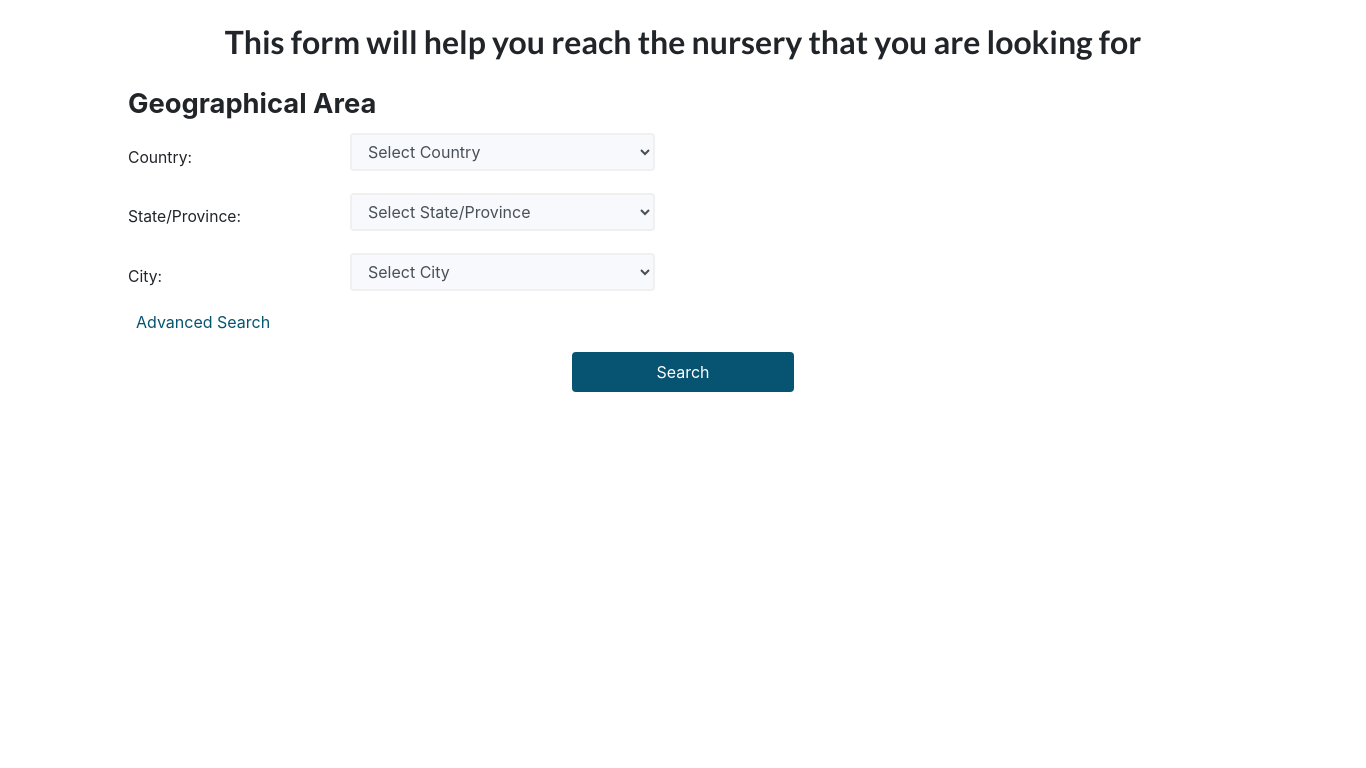
it: Checking to see if the advanced search hides after clicking it again or not
Step 1. Click the button with id "advancedSearchButton" → point(203, 322), box [128,307,278,337]
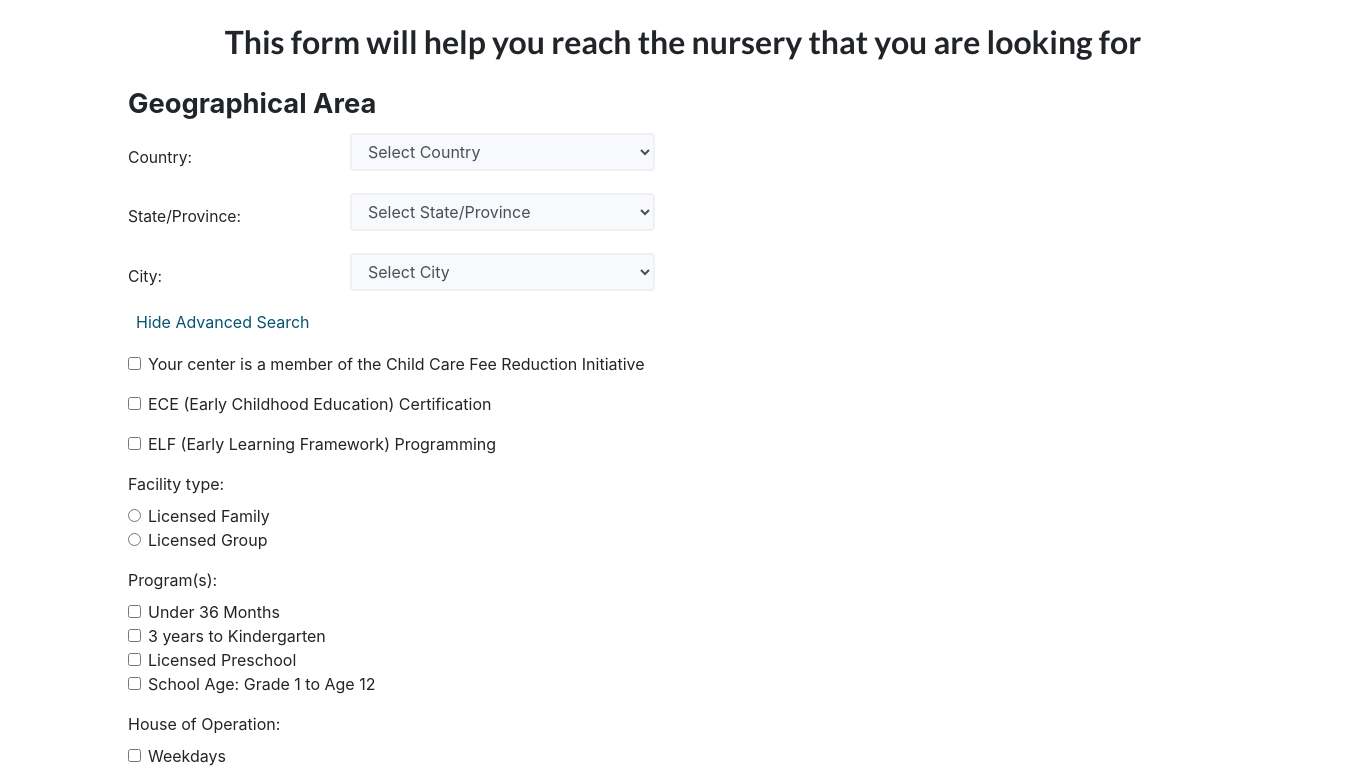
Step 2. Click the button with id "advancedSearchButton" → point(223, 322), box [128,307,318,337]
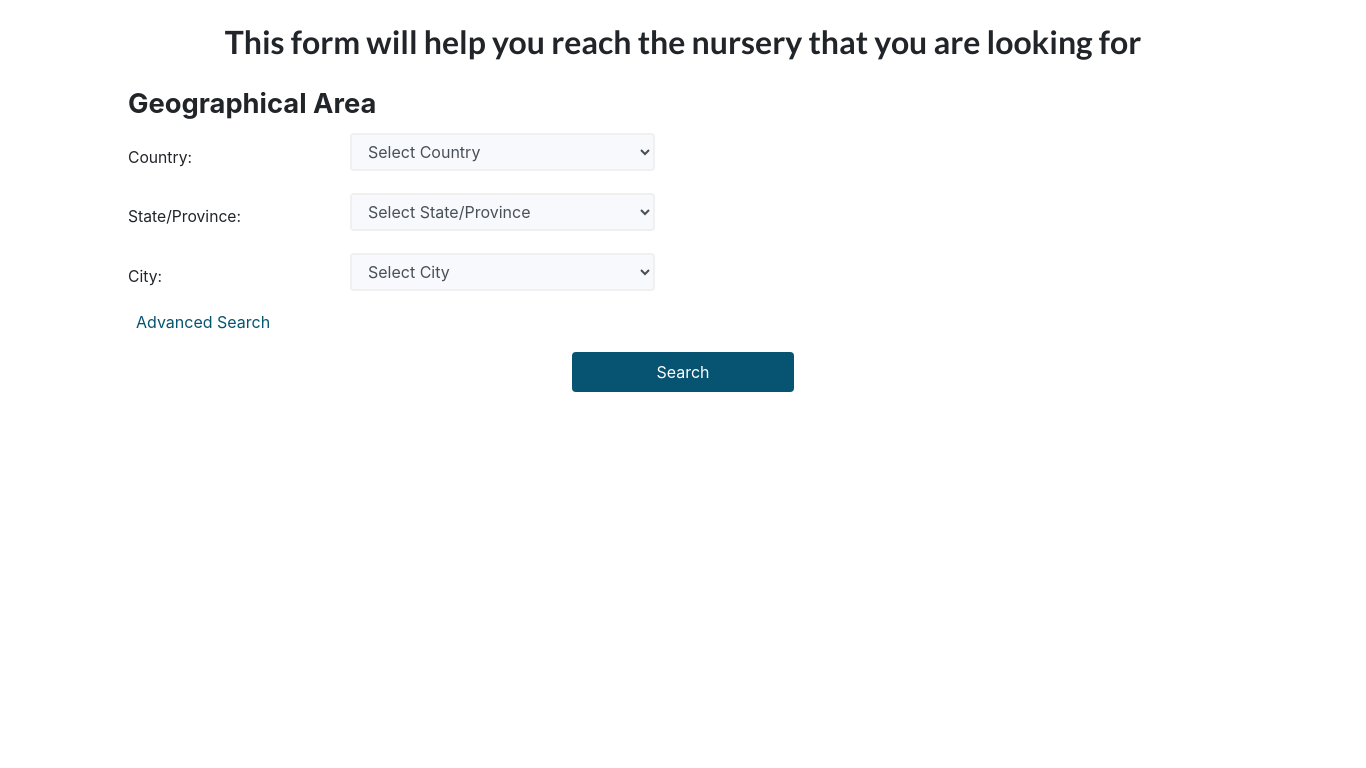
Result: the button with id "advancedSearchButton" reads "Advanced Search" at [128,307,278,337]
